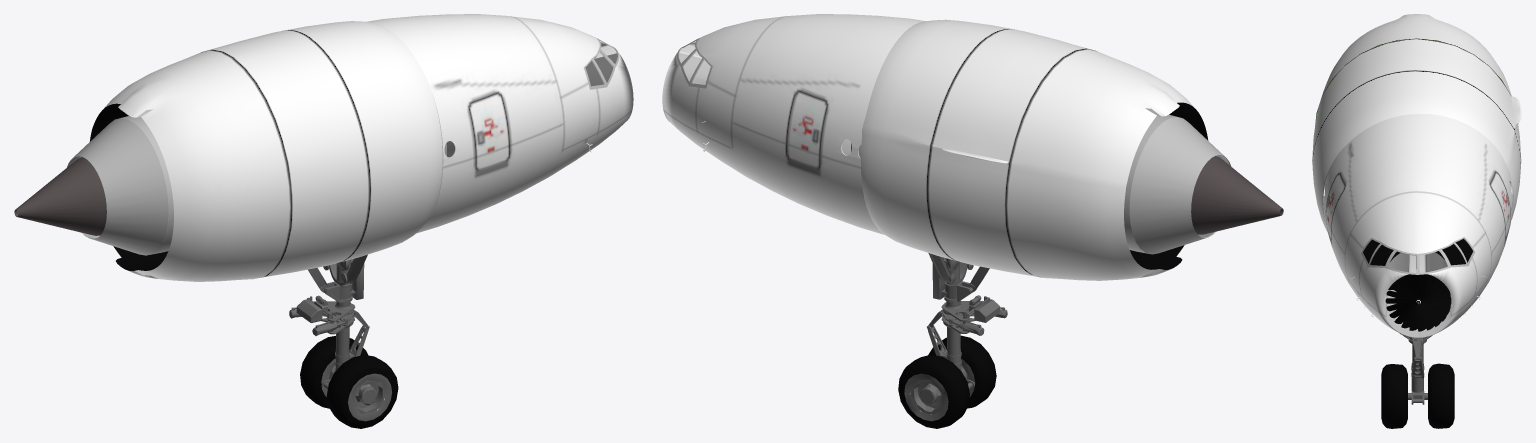
File: boeing7-2w.glb
3 views of the same model, side by side, from view 1: azimuth 30°, elevation 25°; view 2: azimuth 150°, elevation 25°; view 3: azimuth 270°, elevation 25° (orthographic). The views are drawn at different scales.
Visible parts, largest first — view 1: frontGear, LFLGRearDoor.002, frontGear.001; view 2: frontGear, LFLGRearDoor.002, frontGear.001; view 3: LFLGRearDoor.002, frontGear, frontGear.001, RFan.
Part boxes in pixels (x1=…): frontGear: x1=14, y1=21, x2=446, y2=281; LFLGRearDoor.002: x1=366, y1=14, x2=633, y2=233; frontGear.001: x1=289, y1=254, x2=398, y2=428; frontGear: x1=851, y1=19, x2=1283, y2=280; LFLGRearDoor.002: x1=662, y1=14, x2=925, y2=234; frontGear.001: x1=898, y1=253, x2=1007, y2=428; LFLGRearDoor.002: x1=1323, y1=113, x2=1513, y2=337; frontGear: x1=1312, y1=14, x2=1521, y2=232; frontGear.001: x1=1381, y1=333, x2=1454, y2=428; RFan: x1=1385, y1=274, x2=1451, y2=331.
Bounding box in the file's own units: 10.21 × 6.3 × 3.53.
15 materials, 2 textured.
